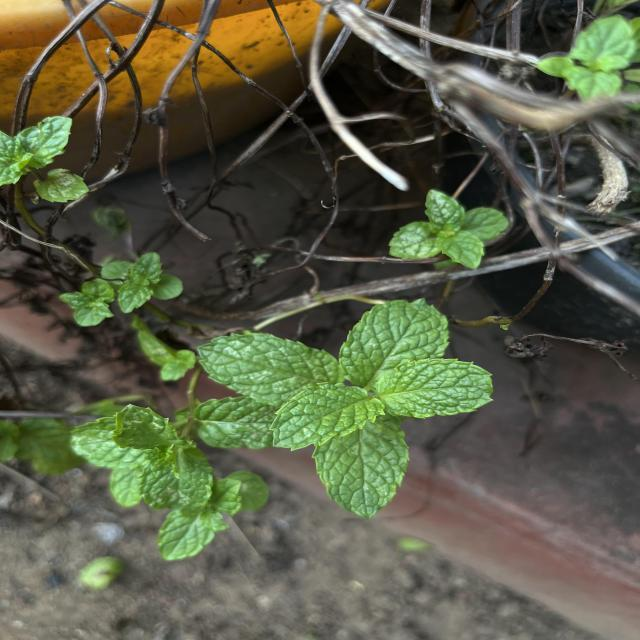Mentha spicata: (196, 330, 338, 408), (338, 296, 450, 388), (268, 381, 386, 452), (376, 357, 497, 420)
